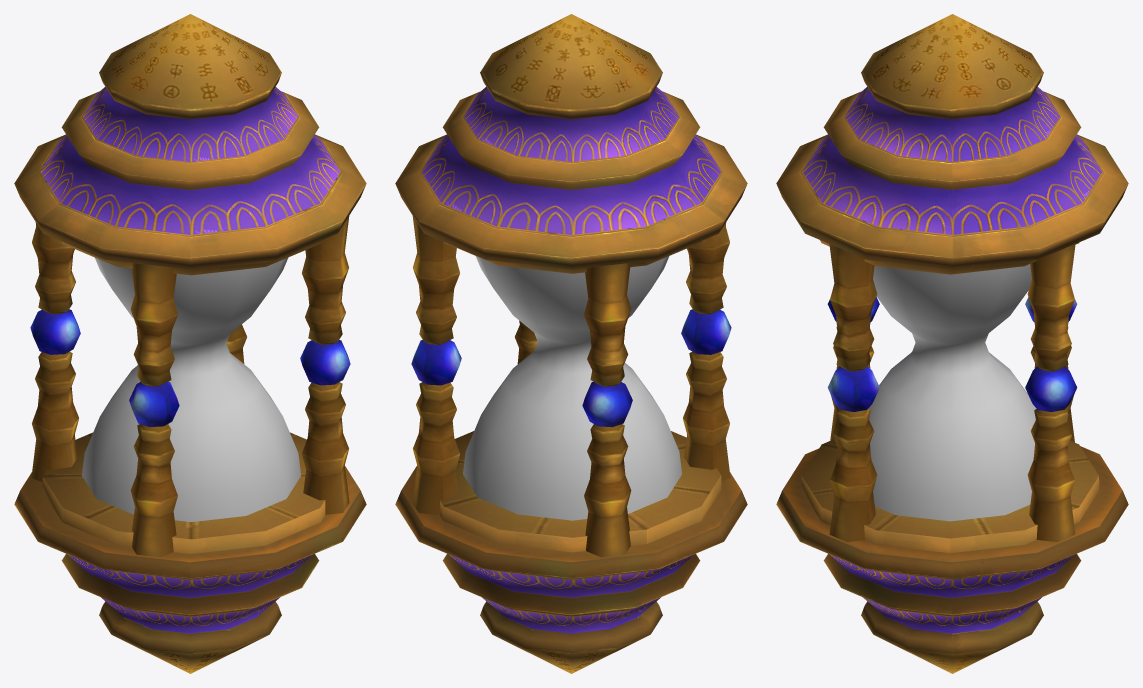
The model's file is Battle03_Hourglass_01.FBX.
3 views of the same model, side by side, from view 1: azimuth 30°, elevation 25°; view 2: azimuth 150°, elevation 25°; view 3: azimuth 270°, elevation 25° (orthographic).
Parts seen in each view (by area): view 1: Battle03_Hourglass_01_01, Battle03_Hourglass_01_02; view 2: Battle03_Hourglass_01_01, Battle03_Hourglass_01_02; view 3: Battle03_Hourglass_01_01, Battle03_Hourglass_01_02.
Part boxes in pixels (bbox=[...]): Battle03_Hourglass_01_01: bbox=[14, 14, 366, 673]; Battle03_Hourglass_01_02: bbox=[82, 257, 300, 521]; Battle03_Hourglass_01_01: bbox=[395, 14, 747, 673]; Battle03_Hourglass_01_02: bbox=[463, 256, 681, 520]; Battle03_Hourglass_01_01: bbox=[776, 14, 1128, 673]; Battle03_Hourglass_01_02: bbox=[868, 264, 1036, 521].
Bounding box in the file's own units: 5.44 × 11.23 × 5.44.
